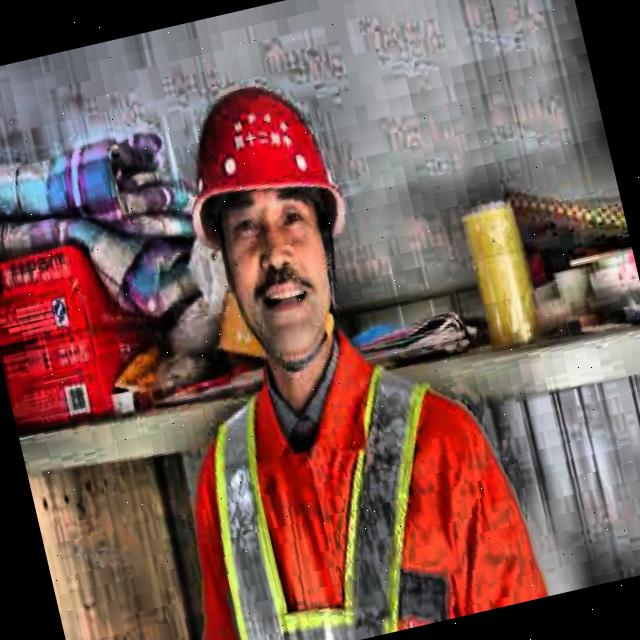helmet: (157, 52, 390, 392)
